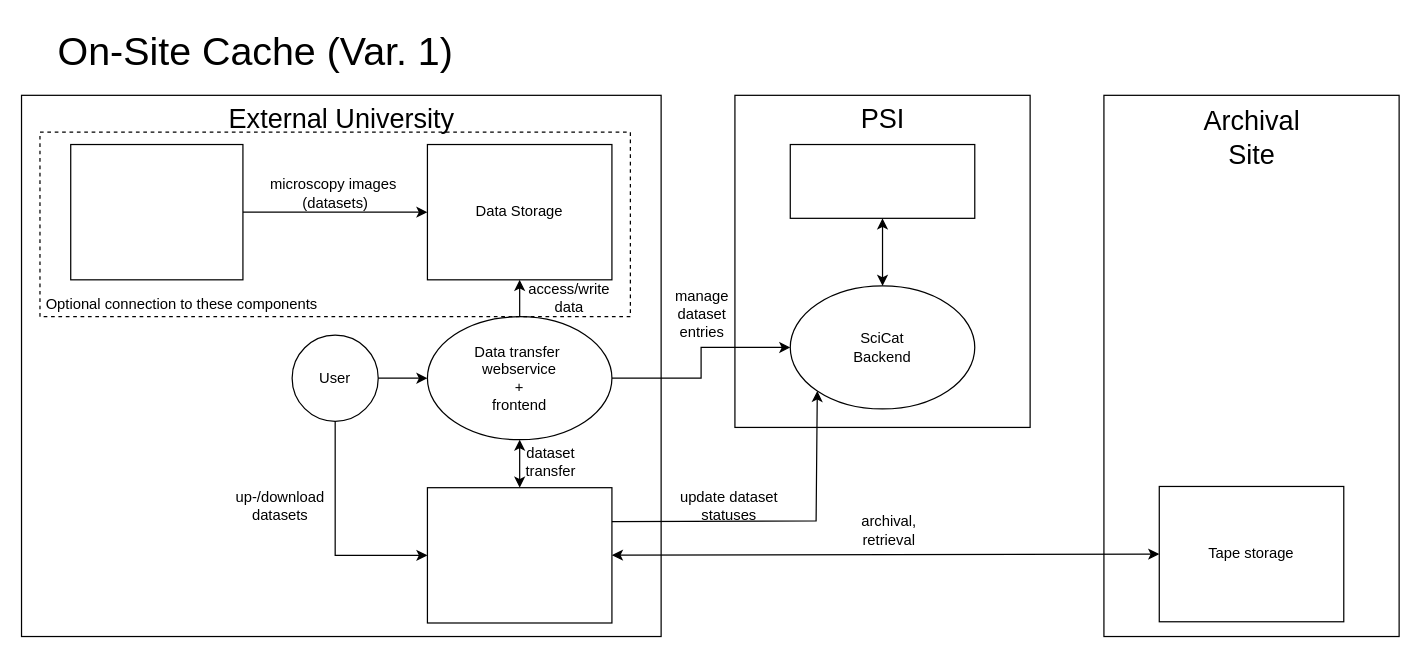
The diagram is 1421 pixels wide and 658 high, and some of its shapes have lost their labels. The centre of each missing label's shape, as x and y in pixels:
"Data Cache" belongs at (x=519, y=554).
"Microscopes" belongs at (x=156, y=211).
"SC Database" belongs at (x=882, y=180).
